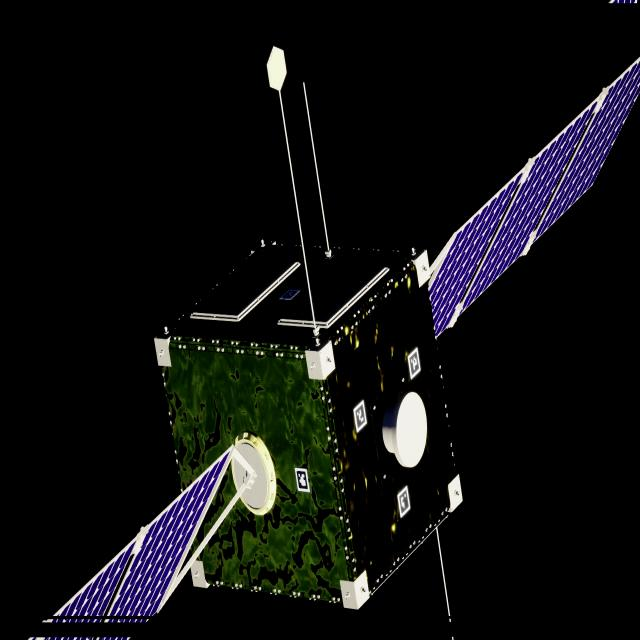satellite: (28, 58, 640, 640)
